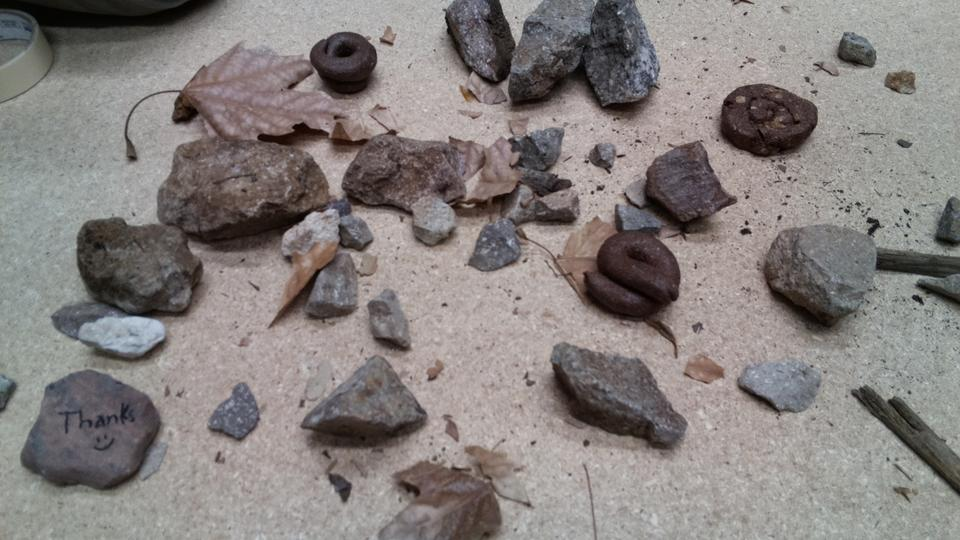poop: (219, 155, 337, 262), (726, 79, 831, 173), (571, 230, 663, 326)
